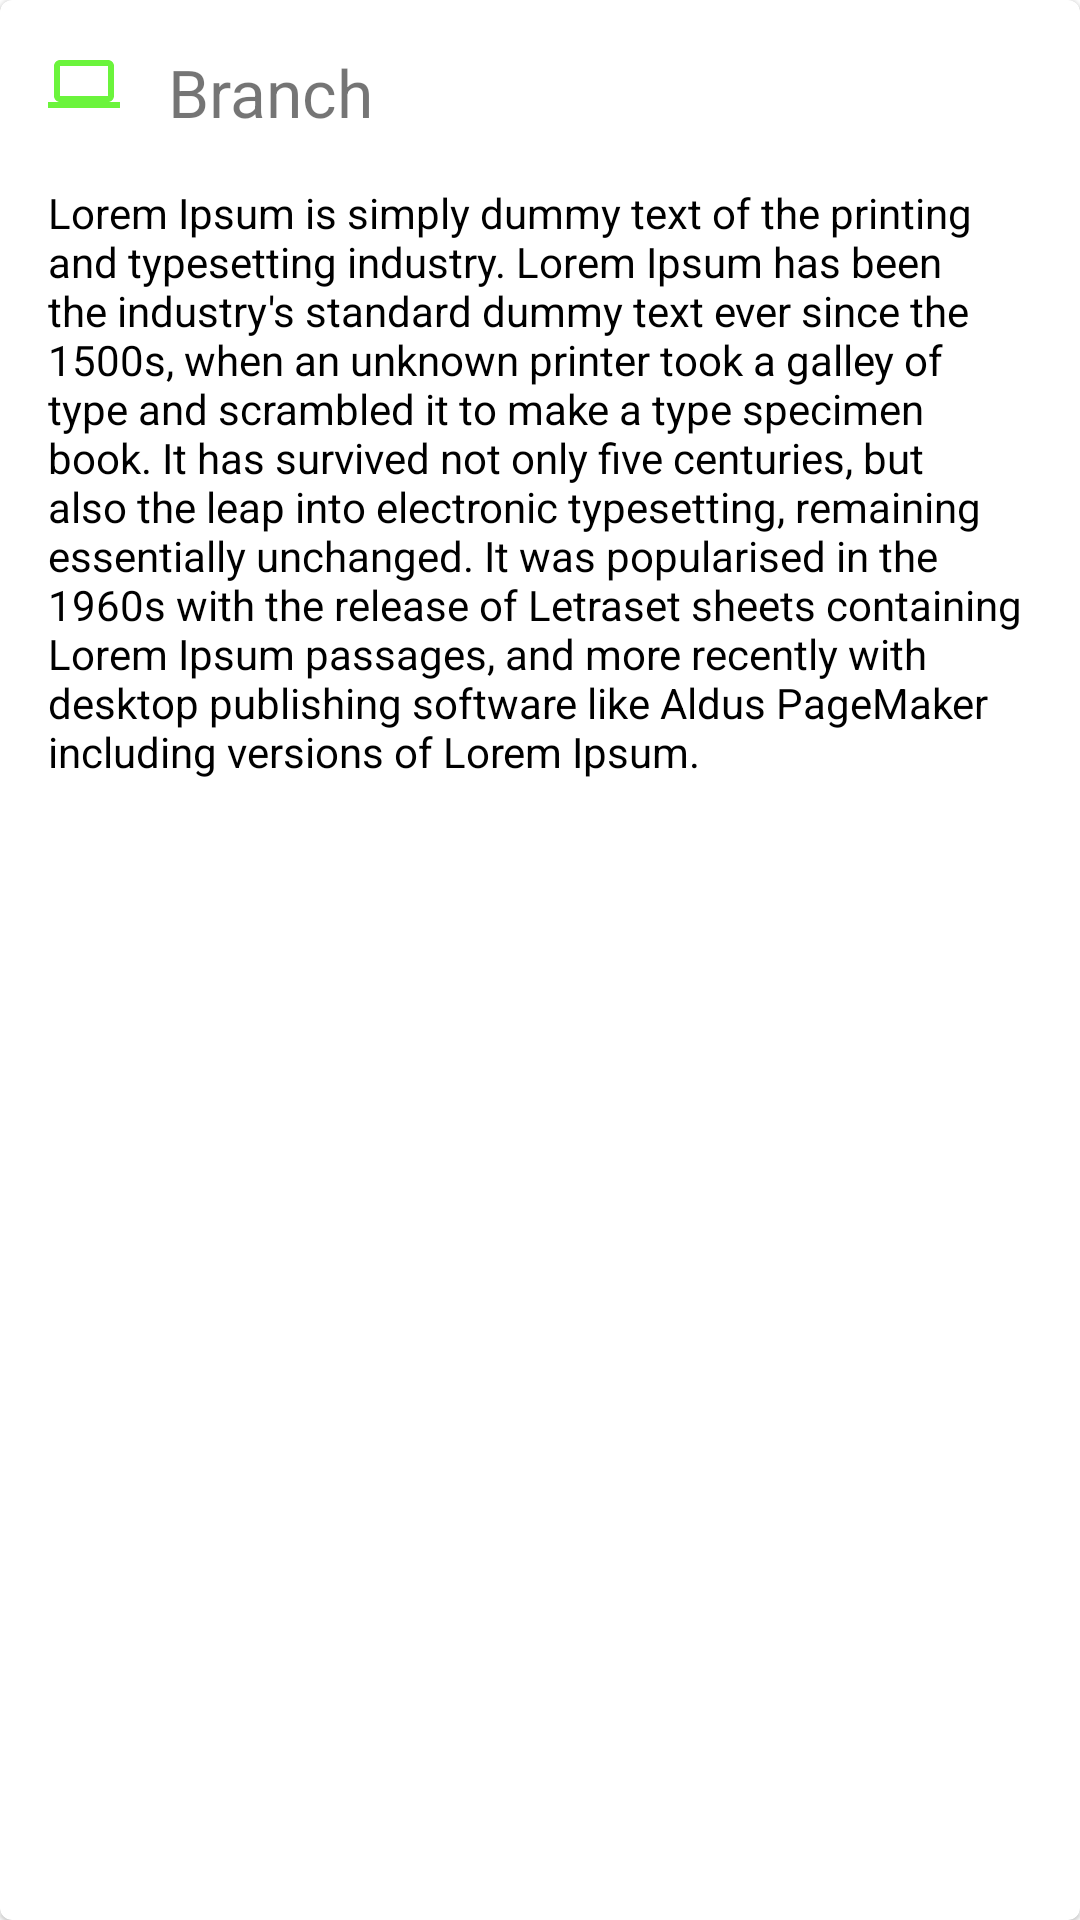

Screen size 1080×1920. Icon name, then its box in pixels as (x1, y1, x2, y2):
computer: (48, 60, 120, 108)
